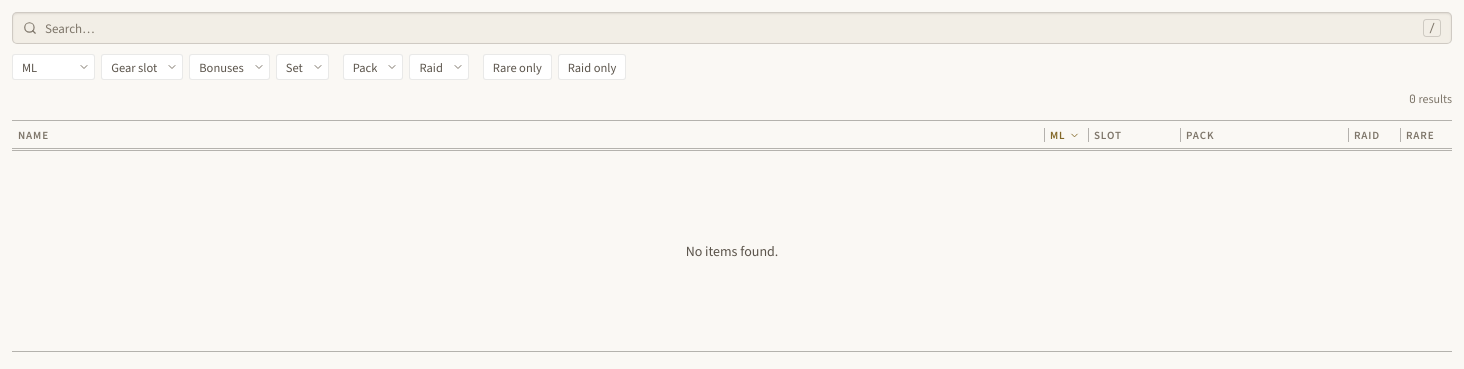
Scenario: ItemPicker page errors › shows a failed filter vocabulary inside its picker instead of No matches
Check: the element with class "resources-result-count" reads "0 results", box [1409, 90, 1452, 110]
Click the button "Gear slot" at (142, 67), box [101, 54, 183, 80]
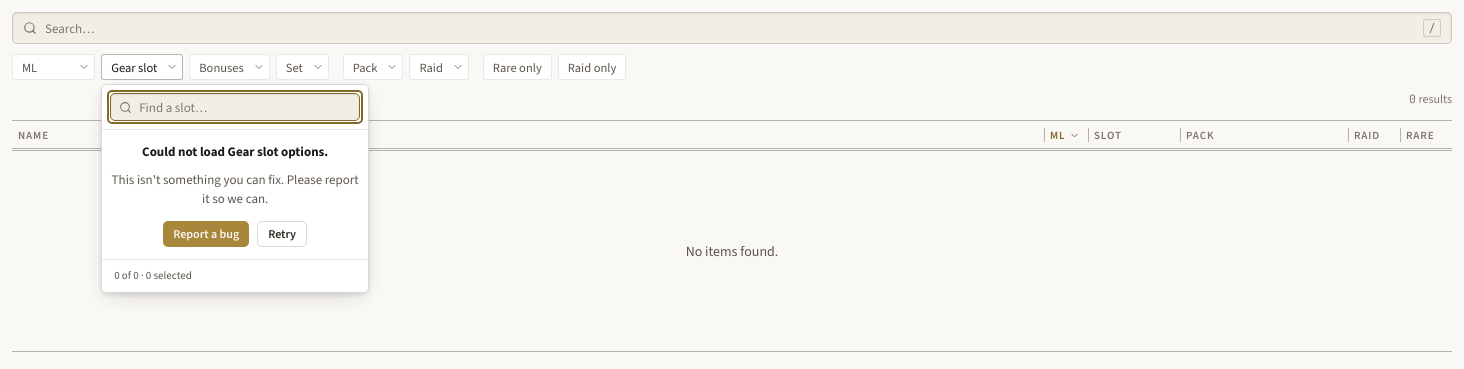
Check: the text "Could not load Gear slot options." is shown, box [142, 142, 328, 162]
Check: the number of messages with class "api-error-notice" is 1, box [102, 134, 368, 254]
